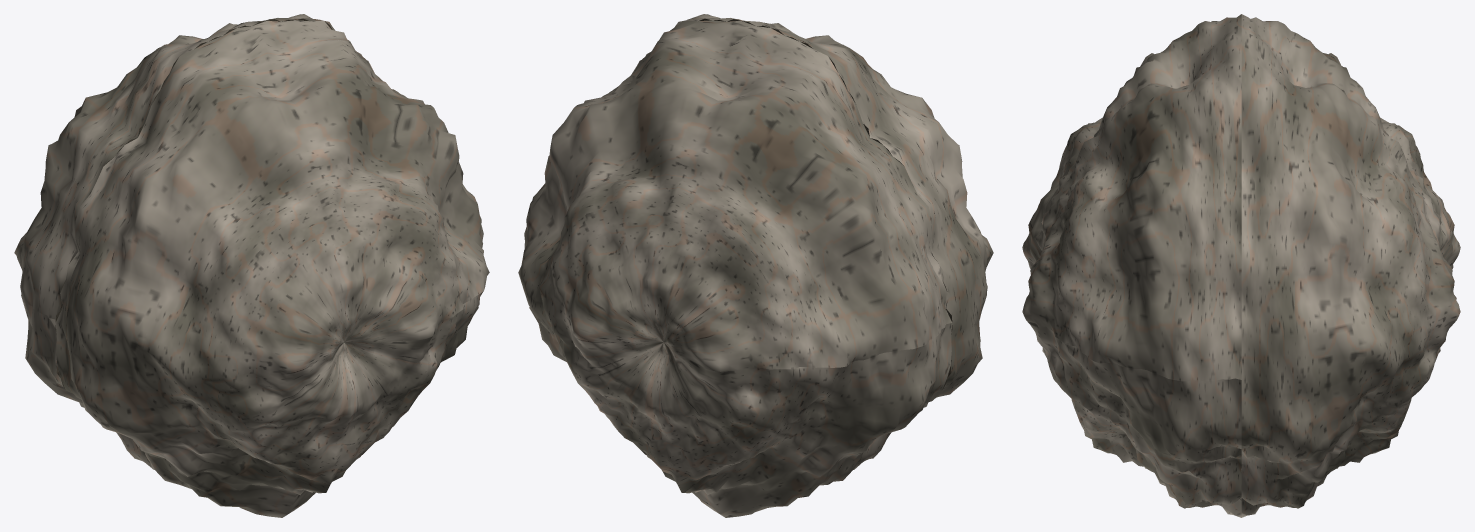
Rendered from black-association-study-v2.glb.
The picture shows the model from 3 angles, left to right: view 1: azimuth 30°, elevation 25°; view 2: azimuth 150°, elevation 25°; view 3: azimuth 270°, elevation 25°; orthographic projection.
Parts seen in each view (by area): view 1: Closed_front, Closed_back; view 2: Closed_back, Closed_front; view 3: Closed_front, Closed_back.
Part boxes in pixels (box(x1,y1,x2,y2)): Closed_front: box(55, 20, 489, 517); Closed_back: box(14, 14, 383, 469); Closed_back: box(518, 20, 952, 517); Closed_front: box(613, 14, 993, 469); Closed_front: box(1022, 14, 1241, 517); Closed_back: box(1241, 14, 1460, 517).
Bounding box in the file's own units: 3.02 × 3.48 × 2.86.
Materials: 7 (3 with a texture image).
